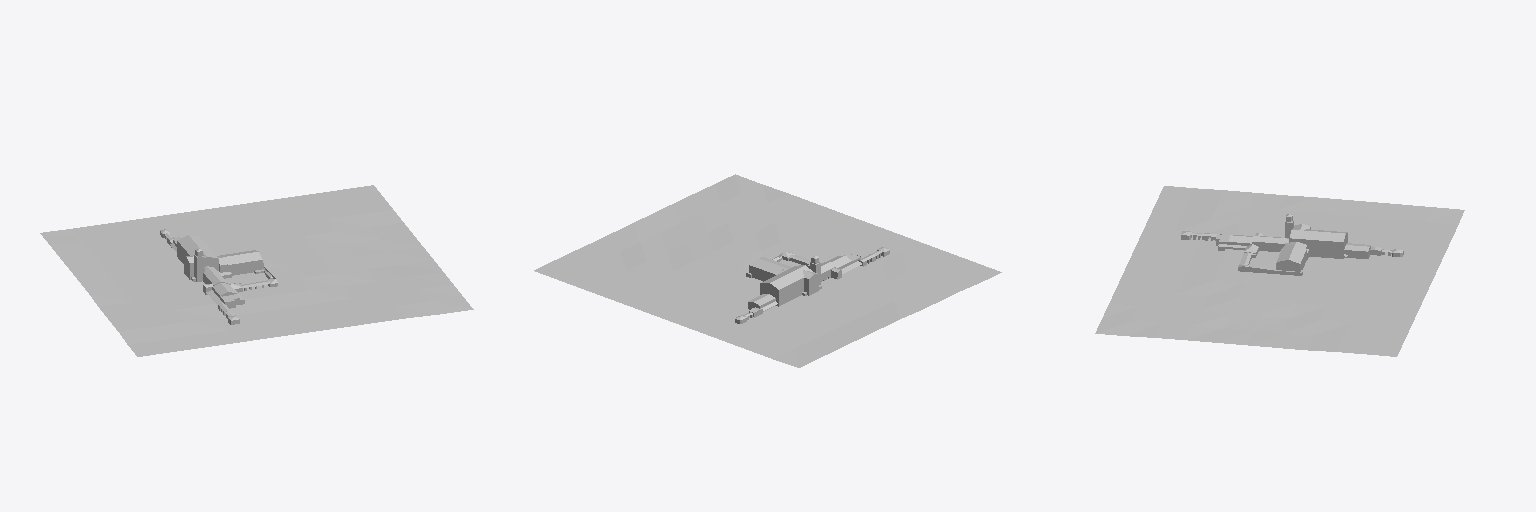
File: UNION+STATION (1).obj
The picture shows the model from 3 angles: view 1: azimuth 30°, elevation 25°; view 2: azimuth 150°, elevation 25°; view 3: azimuth 270°, elevation 25°; orthographic projection.
Parts seen in each view (by area): view 1: Mesh1 Google_Earth_Terrain Model, Mesh3 Group1 Model; view 2: Mesh1 Google_Earth_Terrain Model, Mesh3 Group1 Model; view 3: Mesh1 Google_Earth_Terrain Model, Mesh3 Group1 Model.
Boxes of the visible parts, box(x1,y1,x2,y2) form: Mesh1 Google_Earth_Terrain Model: box(40, 185, 473, 356); Mesh3 Group1 Model: box(167, 235, 277, 315); Mesh1 Google_Earth_Terrain Model: box(534, 174, 1001, 367); Mesh3 Group1 Model: box(746, 252, 875, 317); Mesh1 Google_Earth_Terrain Model: box(1095, 186, 1464, 356); Mesh3 Group1 Model: box(1202, 214, 1381, 275).
Size of the model in its own units: 18977 by 1699 by 17233.